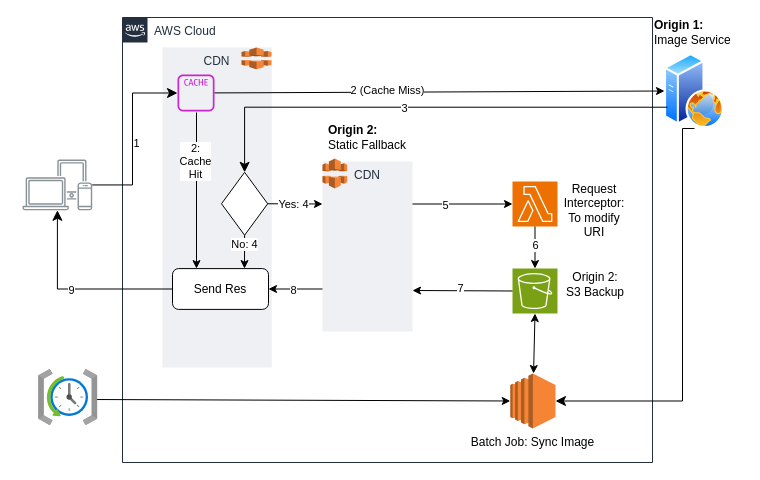
The diagram is 760 pixels wide and 480 high, and some of its shapes have lost their labels. Here are the shapes that lost their labels. From the top down, the centre of each, then its label:
the point at 57,184: devices
the point at 244,203: has Error
the point at 68,397: Manually Triggered Sync Job
